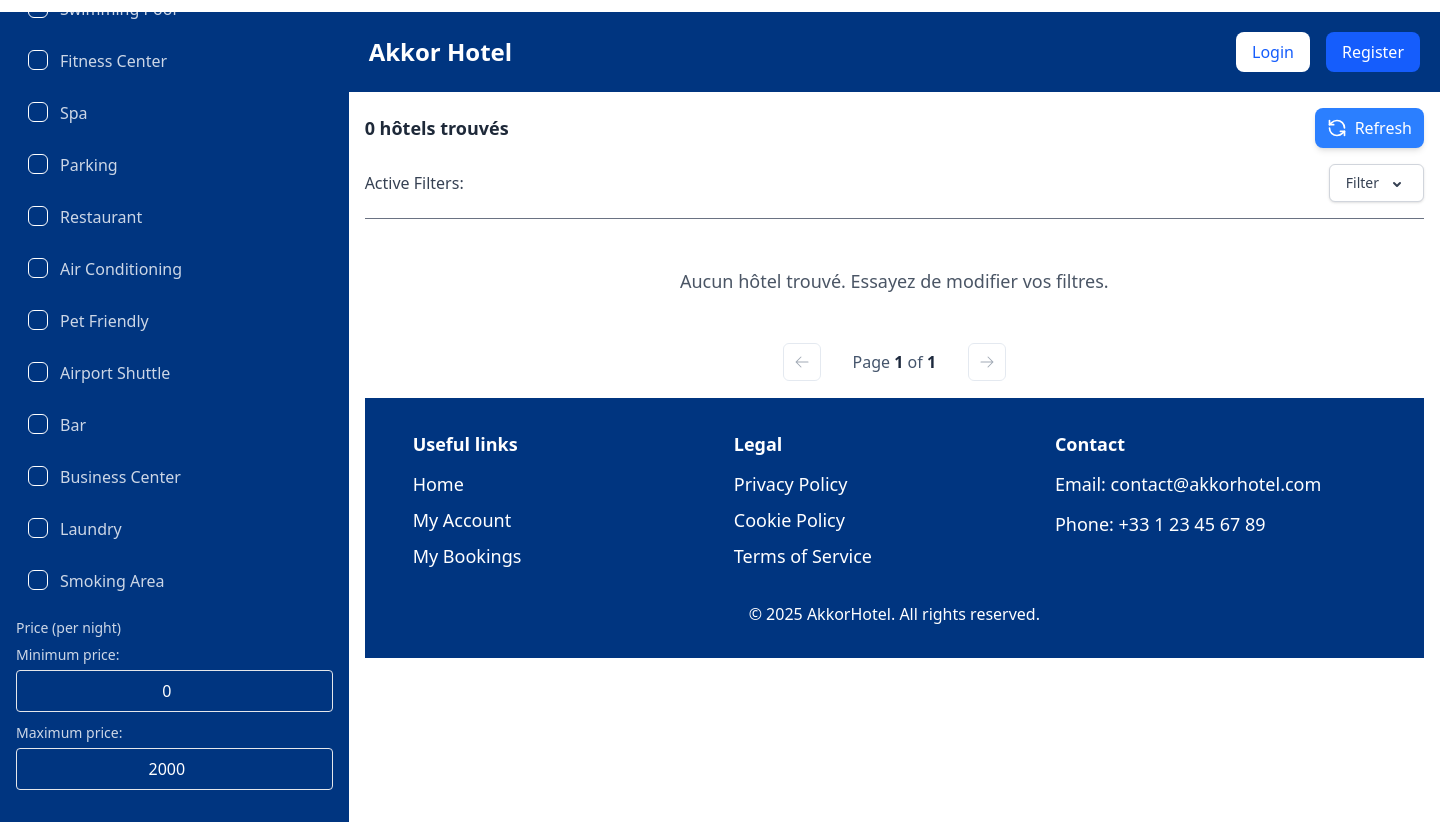
Test: Home Component › should not allow minimum price to exceed maximum price minus 50
The width and height of the screenshot is (1440, 822).
(page scrolled)
Replace the text in the number field labelled "Maximum price:" with "200". click: (174, 769)
box: [16,748,333,790]
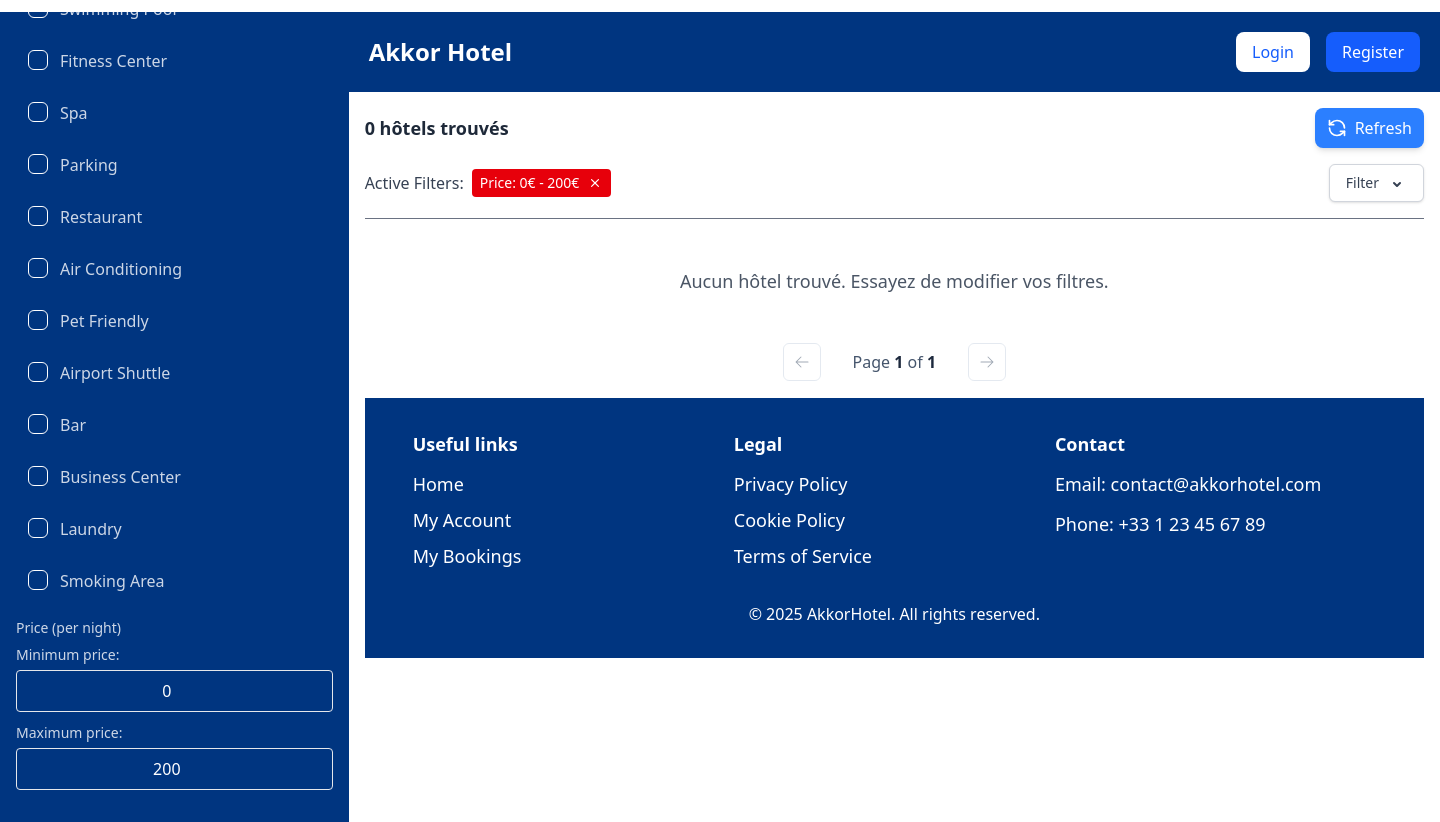
Replace the text in the number field labelled "Minimum price:" with "180". click: (174, 691)
box: [16,670,333,712]
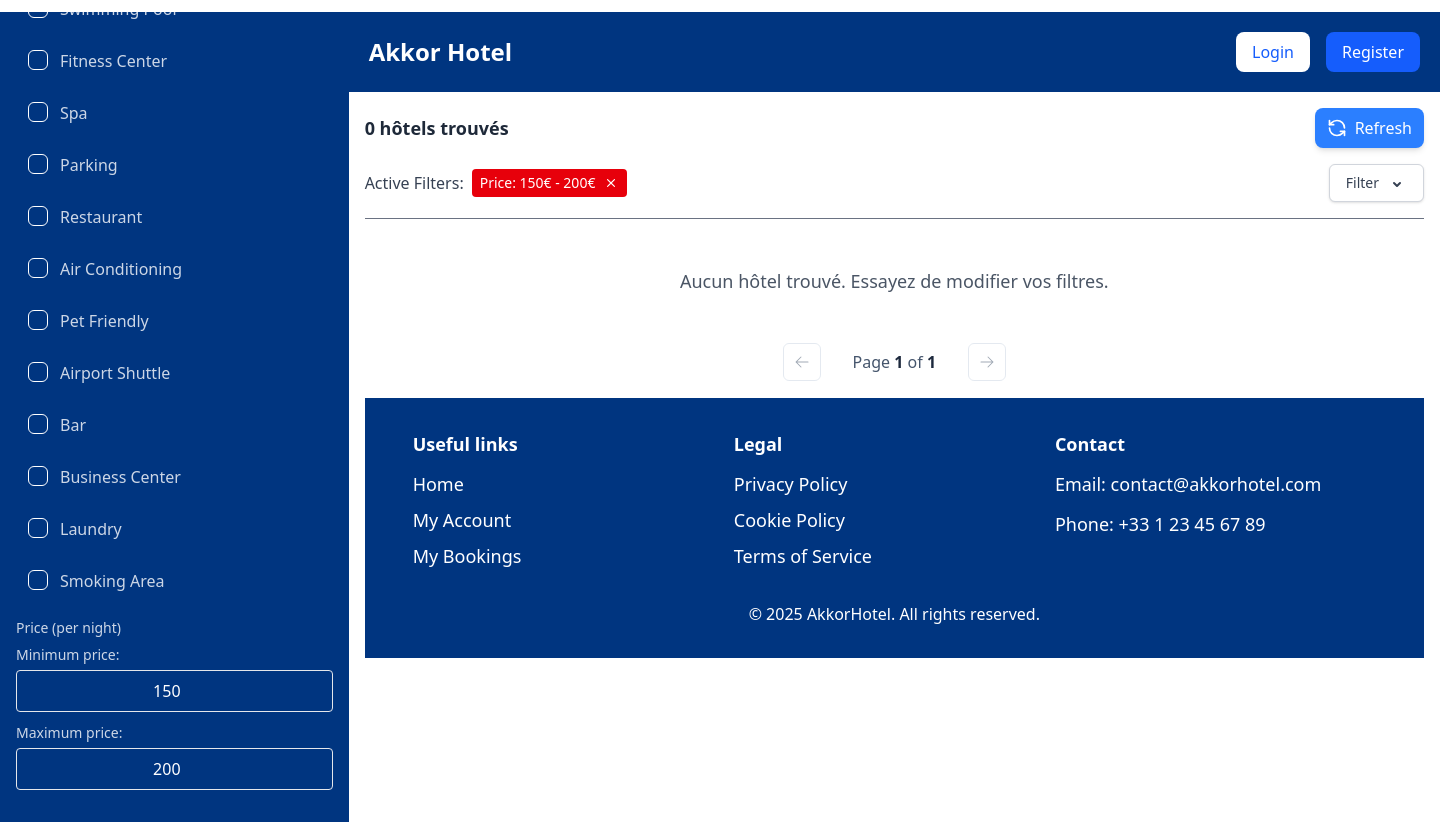
Result: the number field labelled "Minimum price:" holds "150" at [16,670,333,712]
